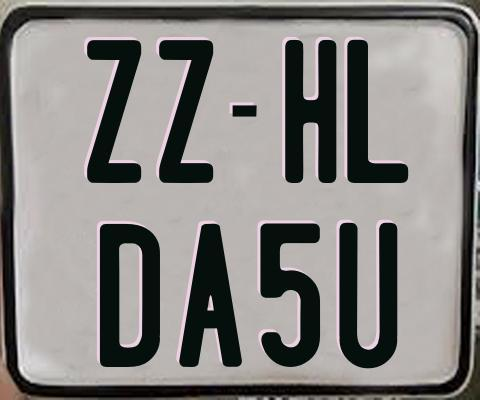5: (257, 221, 320, 367)
A: (177, 223, 246, 370)
D: (99, 221, 159, 365)
H: (282, 39, 336, 183)
L: (346, 39, 409, 188)
U: (339, 222, 398, 372)
Z: (157, 40, 217, 186), (86, 39, 143, 186)
